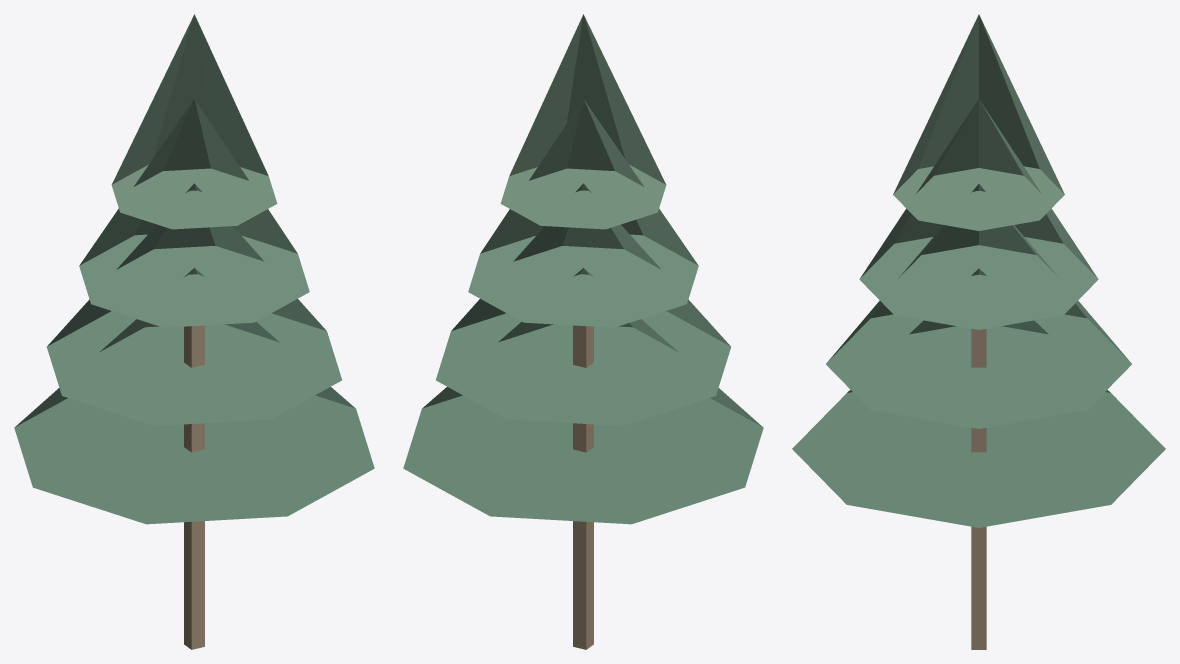
3 renders of one model, left to right at view 1: azimuth 30°, elevation 25°; view 2: azimuth 150°, elevation 25°; view 3: azimuth 270°, elevation 25°, orthographic.
Size of the model in its own units: 8.4 by 15.68 by 8.4.
